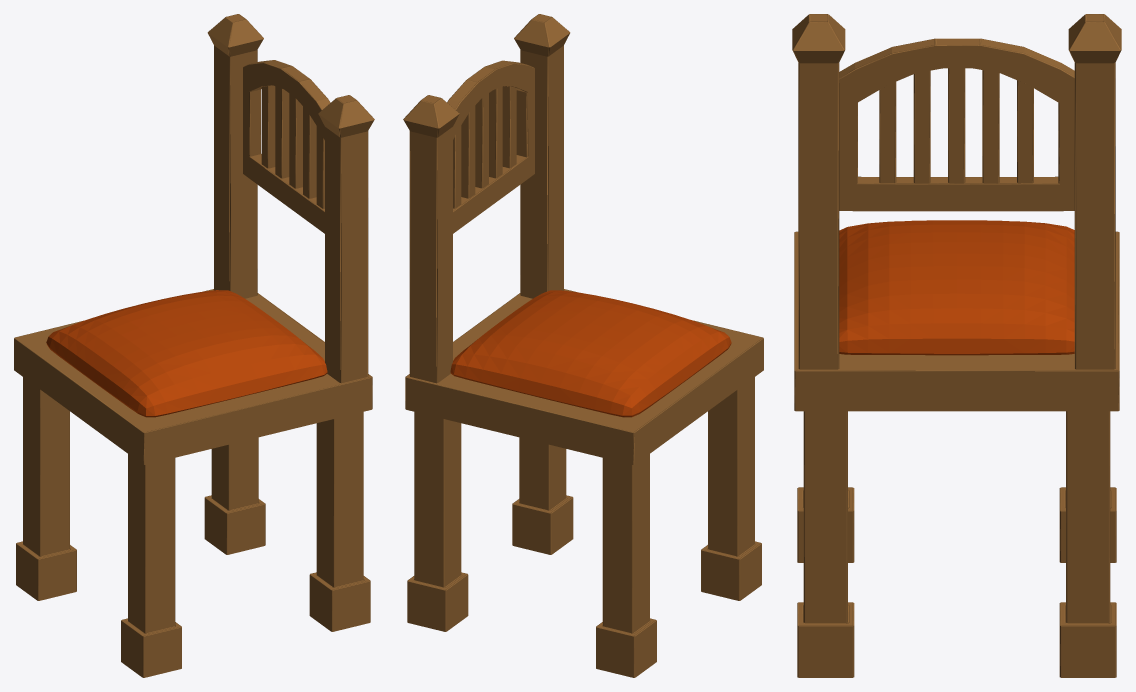
File: kursi.obj
The picture shows the model from 3 angles, left to right: view 1: azimuth 30°, elevation 25°; view 2: azimuth 150°, elevation 25°; view 3: azimuth 270°, elevation 25°; orthographic projection. The views are drawn at different scales.
Visible parts, largest first — view 1: Chair_Cube.052; view 2: Chair_Cube.052; view 3: Chair_Cube.052.
Part boxes in pixels (x1,y1,x2,y2): Chair_Cube.052: [14, 14, 374, 677]; Chair_Cube.052: [403, 14, 763, 677]; Chair_Cube.052: [792, 14, 1121, 677].
Bounding box in the file's own units: 0.8428 × 1.82 × 0.834.
